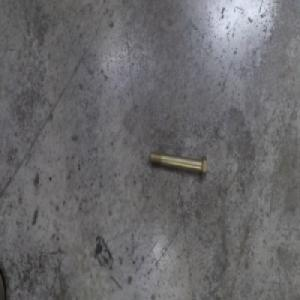Bolt: (147, 150, 208, 179)
